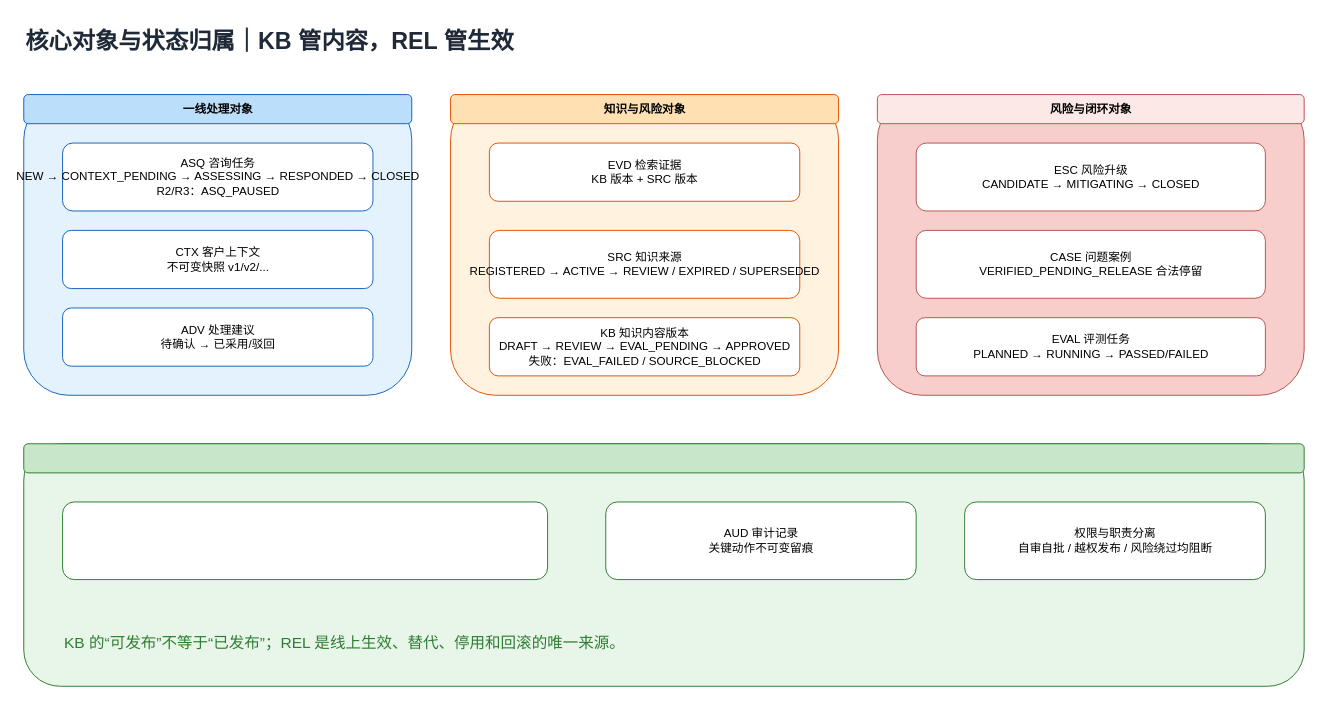
Image size: 1321x703. Some labels were removed from this diagram. Each missing label, with the centre of its shape:
"REL 发布版本 PENDING → ACTIVE → SUPERSEDED/SUSPENDED/ROLLED_BACK 唯一作用域：租户 + 环境 + 业务域" goes at pixel 305 540.
"发布与治理对象｜生效状态唯一归属" goes at pixel 663 458.
